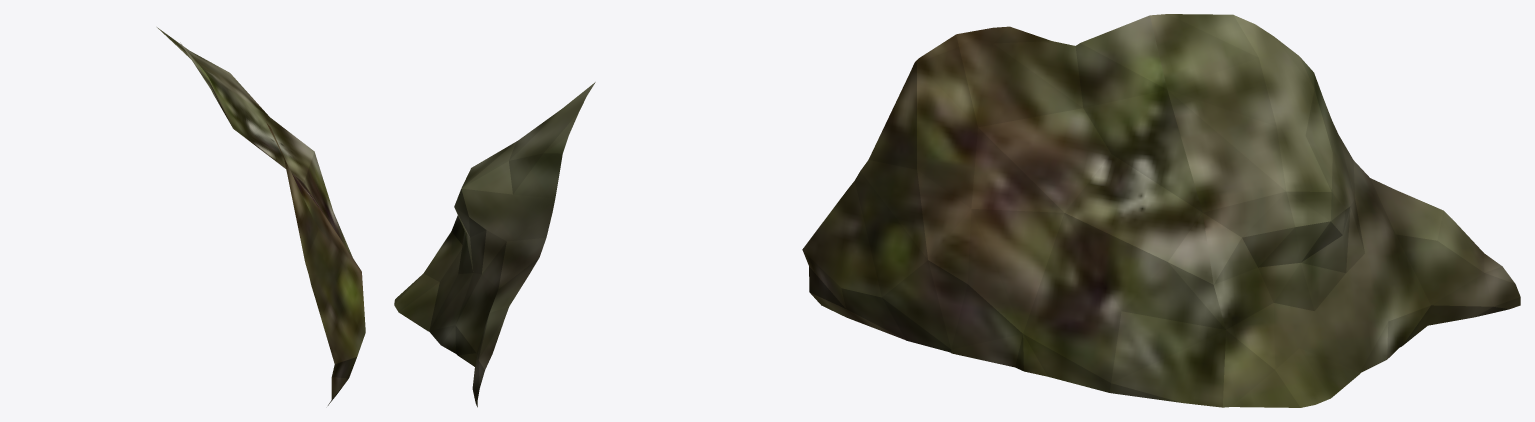
The picture shows the model from 3 angles, left to right: view 1: azimuth 30°, elevation 25°; view 2: azimuth 150°, elevation 25°; view 3: azimuth 270°, elevation 25°; orthographic projection. The views are drawn at different scales.
Bounding box in the file's own units: 0.1767 × 0.2343 × 0.5232.
Materials: 1 (1 with a texture image).
